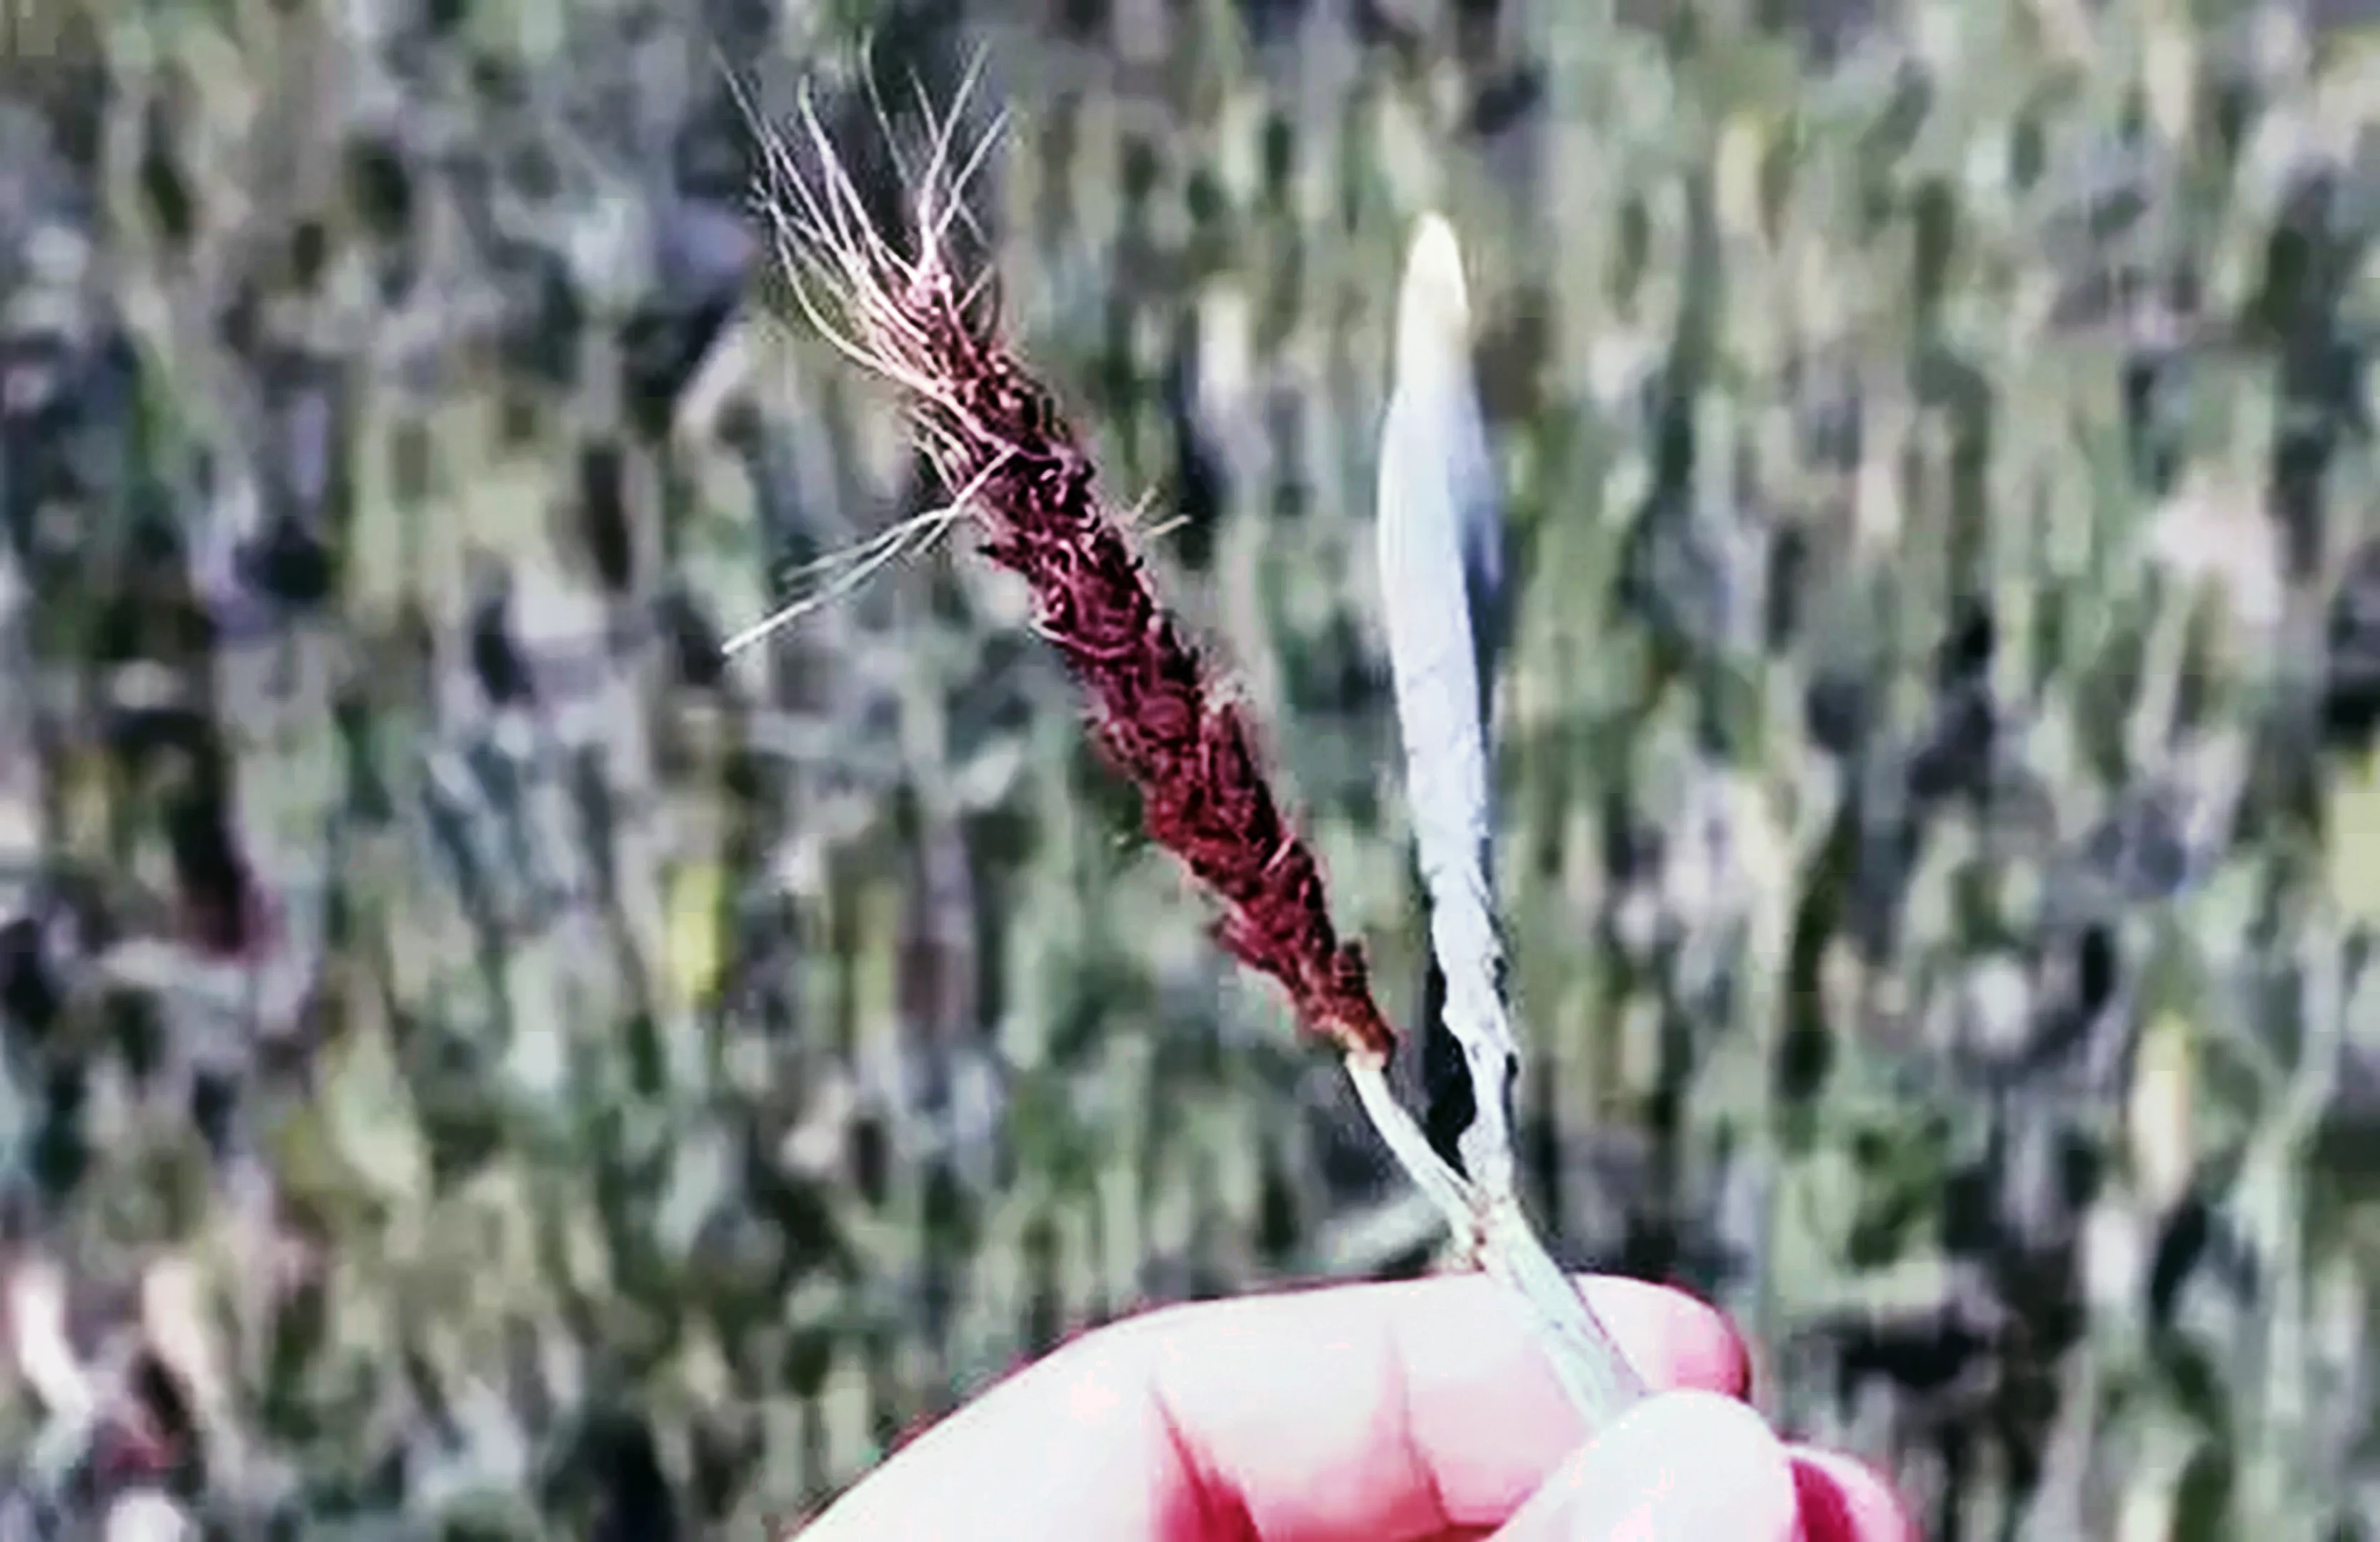Wheat Loose Smut: (770, 160, 1272, 774)
